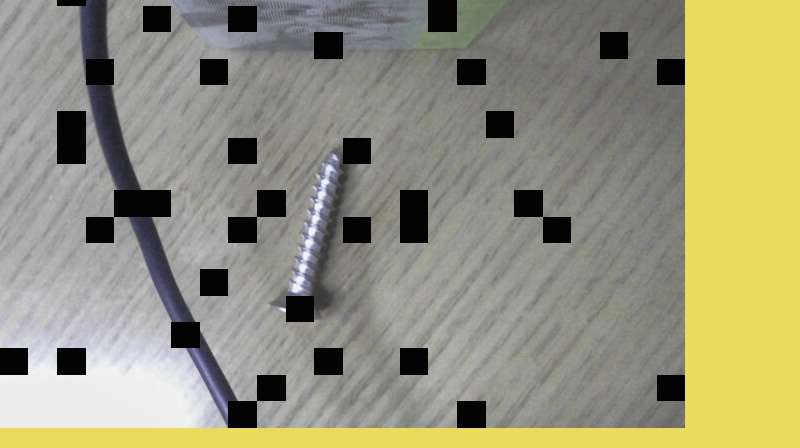S001: (266, 145, 353, 323)
